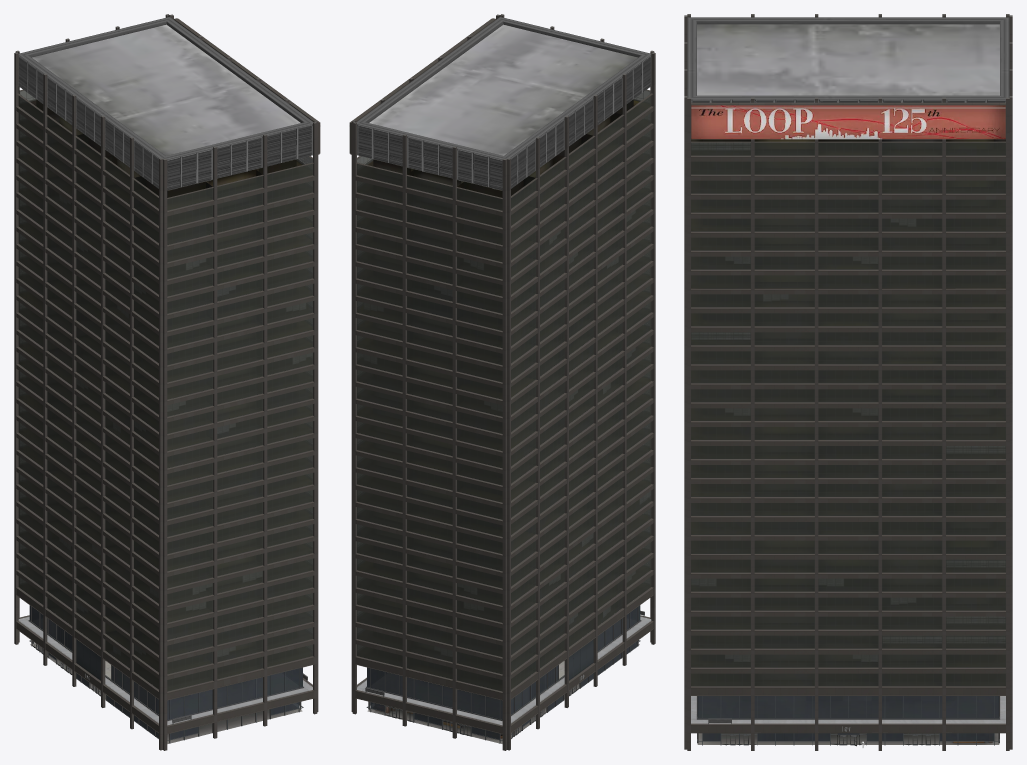
Rendered from atlanta_office.glb.
3 views of the same model, side by side, from view 1: azimuth 30°, elevation 25°; view 2: azimuth 150°, elevation 25°; view 3: azimuth 270°, elevation 25° (orthographic). The views are drawn at different scales.
Visible parts, largest first — view 1: Cube.002, Cube.005, Cube.012, Cube.001, Cube.006, Cube.007, Cube.009, Cube.003; view 2: Cube.002, Cube.005, Cube.012, Cube.001, Cube.006, Cube.007, Cube.009, Cube.003; view 3: Cube.005, Cube.002, Cube.012, Cube.001, Cube.004, Cube.007, Cube.003, Cube.009, Cube.006.
Part boxes in pixels (x1,y1,x2,y2): Cube.002: [14, 14, 320, 750]; Cube.005: [18, 90, 312, 690]; Cube.012: [19, 99, 311, 690]; Cube.001: [18, 90, 312, 691]; Cube.006: [18, 56, 312, 190]; Cube.007: [29, 605, 302, 739]; Cube.009: [30, 643, 302, 743]; Cube.003: [20, 156, 312, 656]; Cube.002: [349, 14, 655, 750]; Cube.005: [357, 90, 651, 690]; Cube.012: [358, 99, 650, 690]; Cube.001: [357, 90, 651, 691]; Cube.006: [357, 56, 651, 190]; Cube.007: [367, 605, 640, 739]; Cube.009: [367, 644, 639, 743]; Cube.003: [358, 211, 650, 656]; Cube.005: [691, 142, 1005, 685]; Cube.002: [684, 14, 1012, 750]; Cube.012: [691, 139, 1005, 685]; Cube.001: [691, 143, 1005, 686]; Cube.004: [691, 105, 1005, 139]; Cube.007: [697, 696, 999, 740]; Cube.003: [692, 143, 1004, 661]; Cube.009: [697, 733, 999, 744]; Cube.006: [691, 99, 1005, 102].
Bounding box in the file's own units: 60.83 × 212 × 96.85.
Materials: 12 (11 with a texture image).
